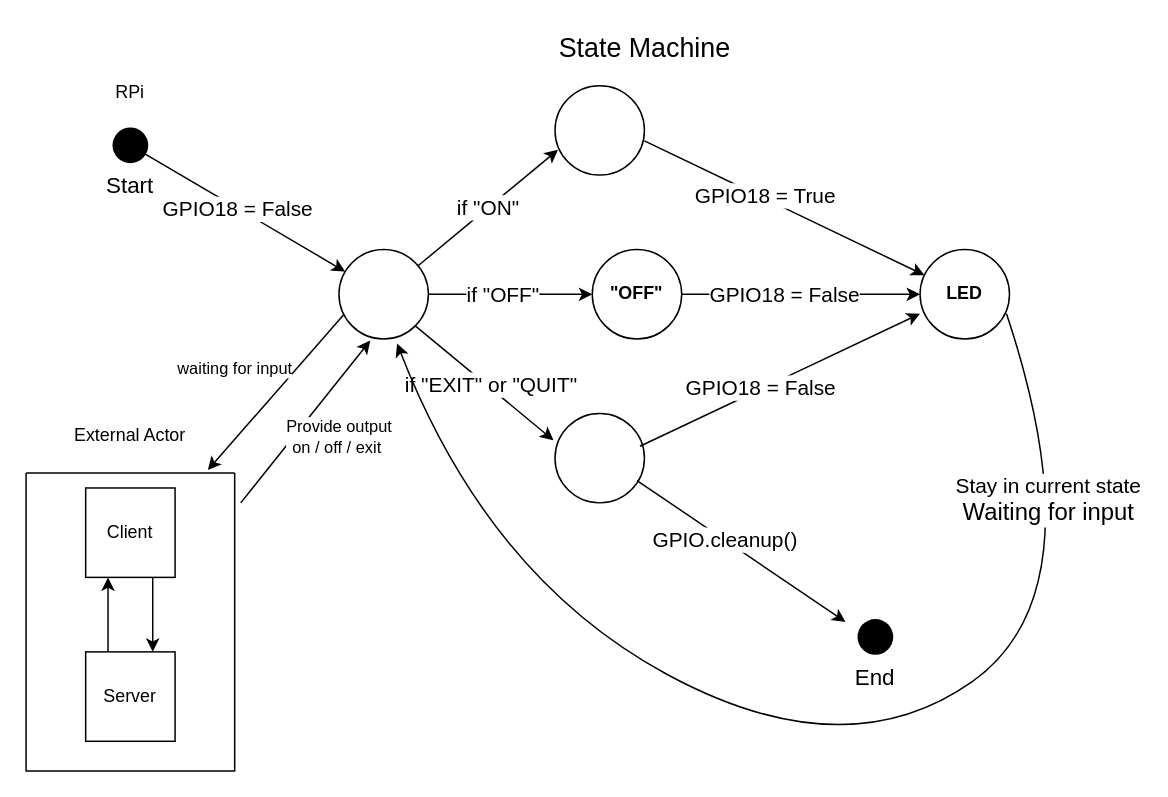
The diagram is 1168 pixels wide and 797 high, and some of its shapes have lost their labels. The box of each missing label's shape, as (x1, y1, x2, y2) in pixels:
"EXIT" or "QUIT": (554, 412, 644, 503)
"ON": (554, 84, 644, 175)
Waiting for Serial Input: (337, 248, 428, 339)
